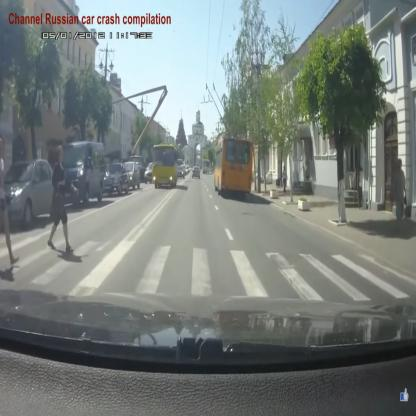crosswalk: (3, 238, 414, 298)
